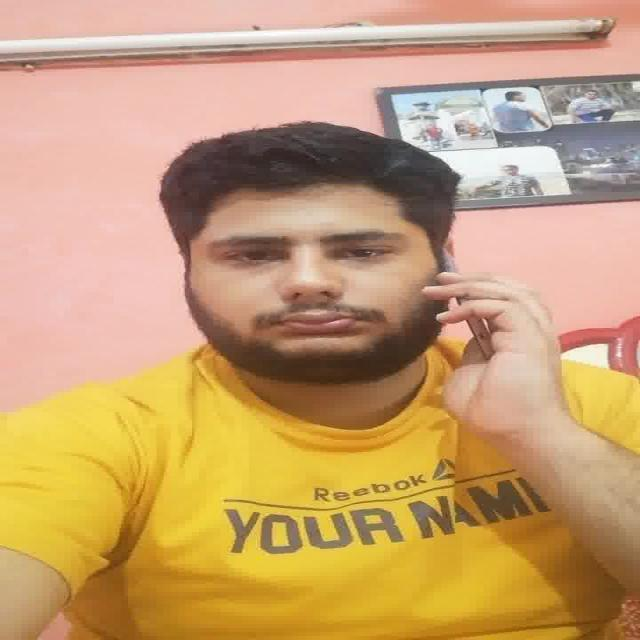Phone: (454, 286, 498, 364)
